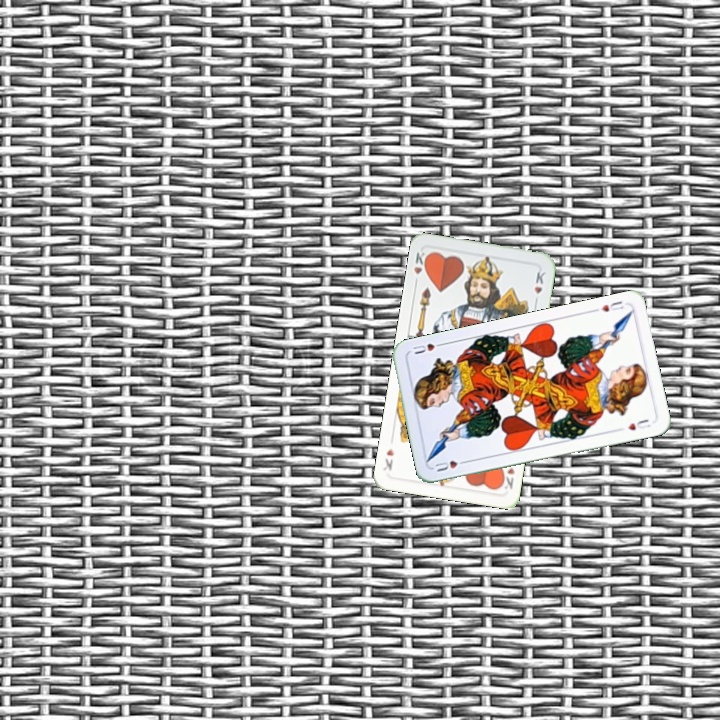HK: (410, 248, 431, 287), (496, 463, 517, 492)
HU: (431, 456, 471, 474), (598, 297, 626, 315)
